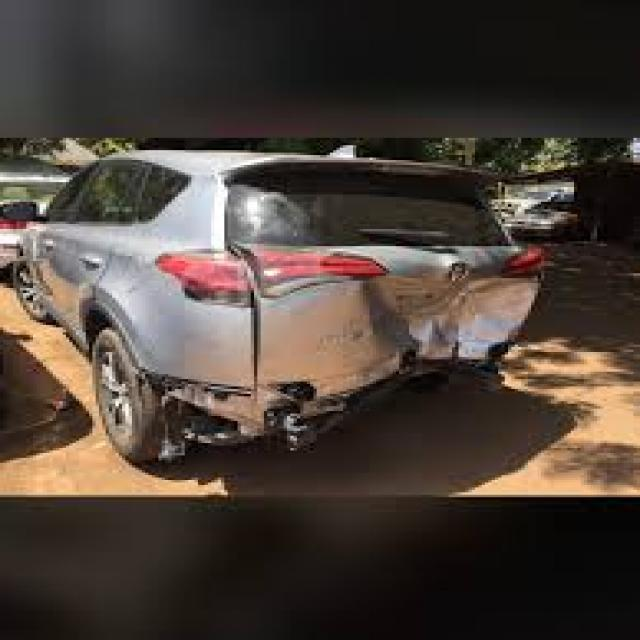damaged-trunk: (238, 166, 532, 382)
